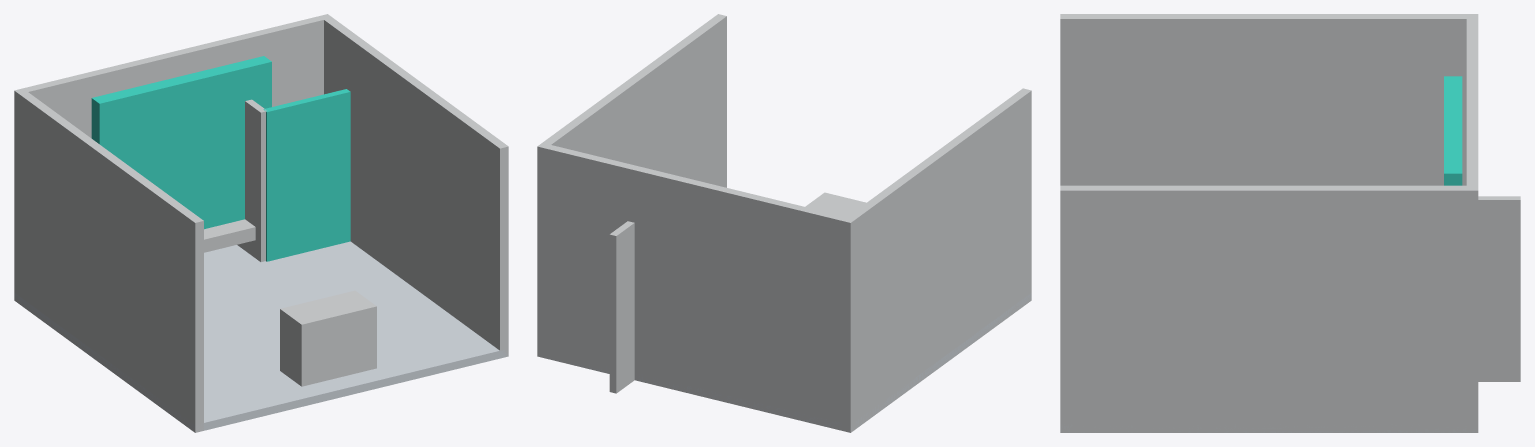
3 renders of one model, left to right at view 1: azimuth 30°, elevation 25°; view 2: azimuth 150°, elevation 25°; view 3: azimuth 270°, elevation 25°, orthographic. The views are drawn at different scales.
Visible parts, largest first — view 1: Exhibition Booth Concept; view 2: Exhibition Booth Concept; view 3: Exhibition Booth Concept.
Boxes of the visible parts, x1=… form: Exhibition Booth Concept: x1=14, y1=14, x2=508, y2=432; Exhibition Booth Concept: x1=537, y1=14, x2=1031, y2=432; Exhibition Booth Concept: x1=1060, y1=14, x2=1520, y2=432.
Bounding box in the file's own units: 5 × 3.2 × 5.51.
